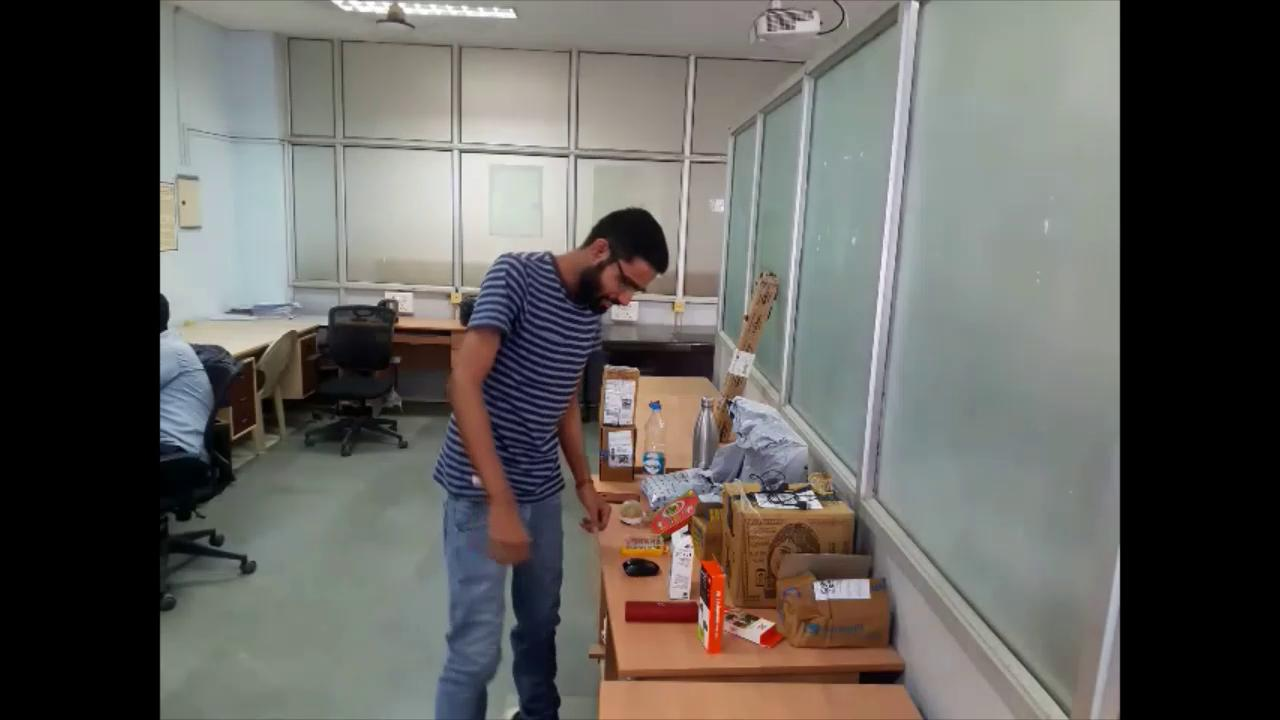Normal: (430, 202, 674, 720)
